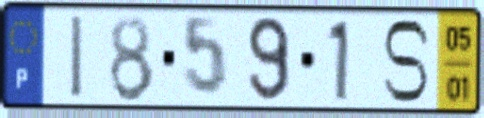1: (323, 17, 351, 104)
5: (180, 14, 233, 104)
8: (106, 12, 158, 104)
9: (245, 13, 293, 106)
I: (68, 12, 86, 102)
S: (379, 16, 434, 107)
